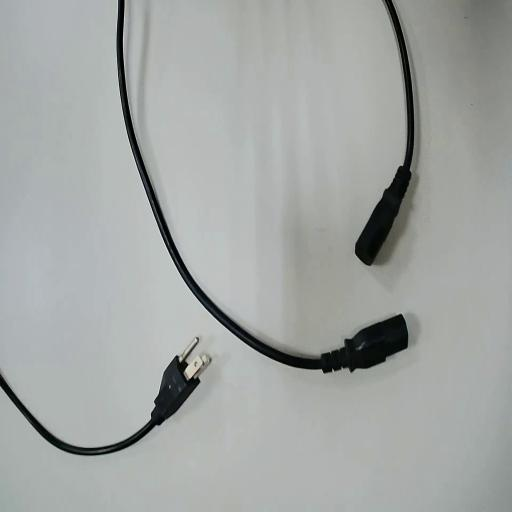wire: (118, 0, 407, 371), (0, 357, 198, 454), (356, 0, 413, 264)
